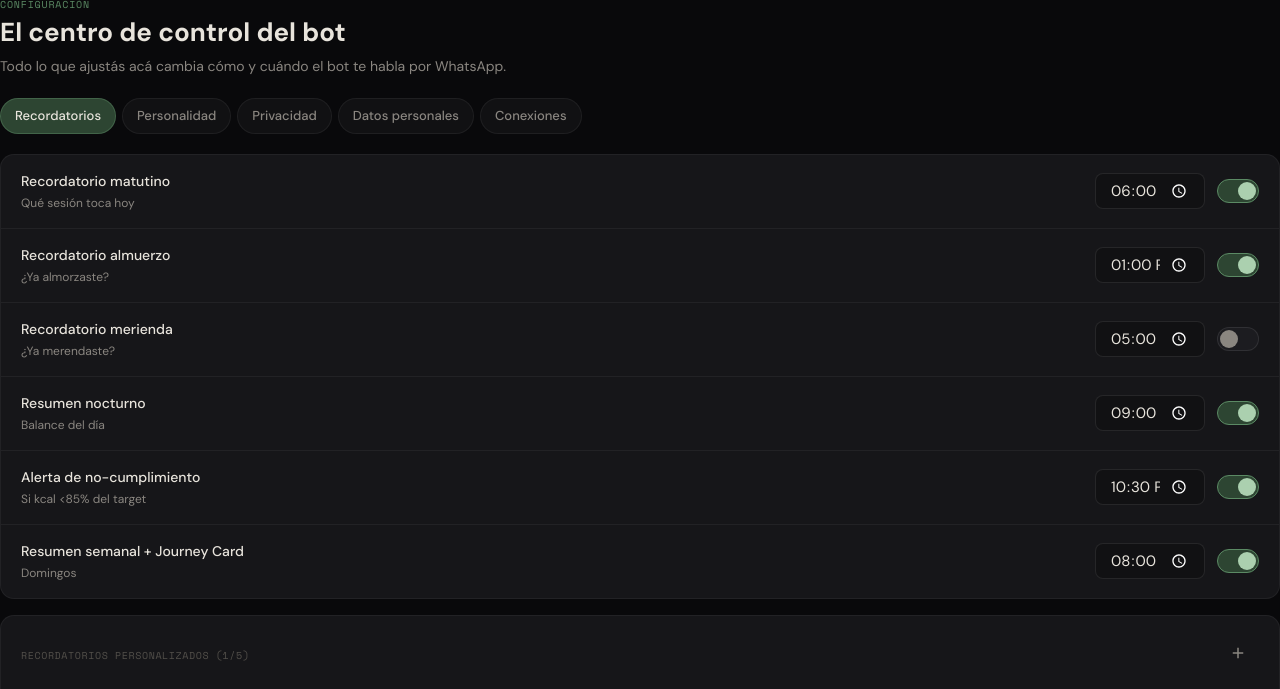
Test case: Settings › renders privacy options with toggles
Click the tab "Privacidad" at (284, 116), box left=237, top=98, right=332, bottom=134
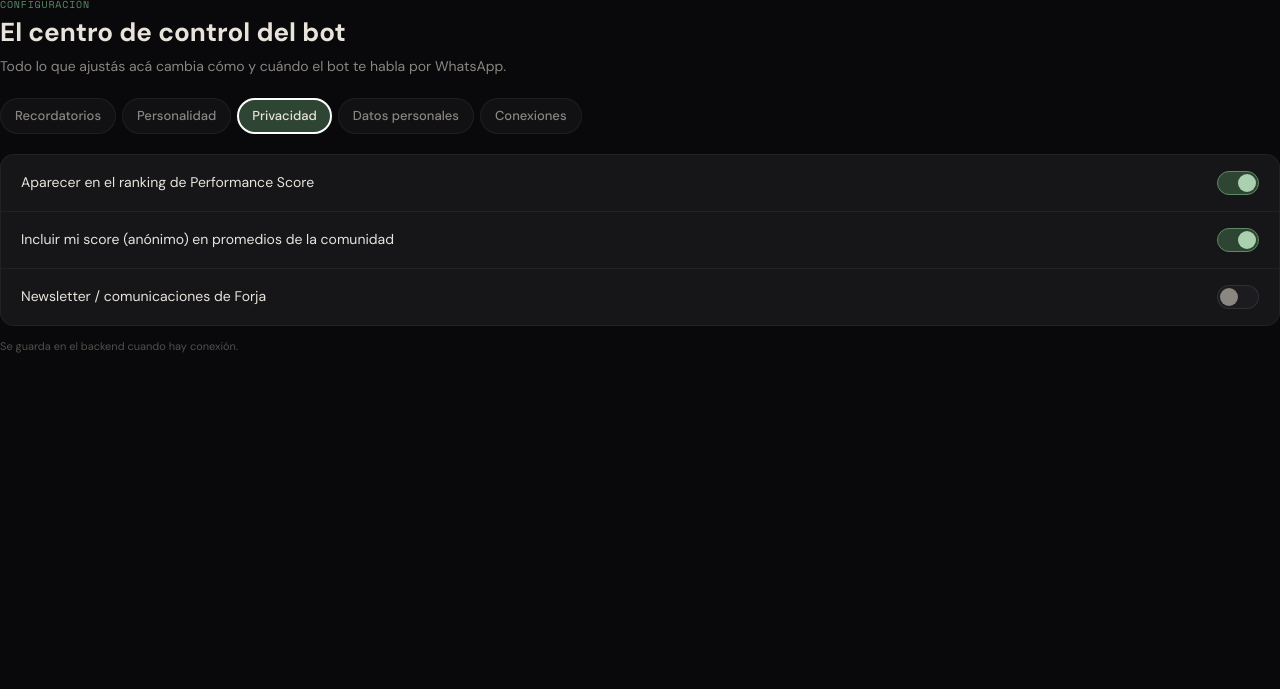
Check: the text "Newsletter / comunicaciones de Forja" is shown, box left=21, top=287, right=266, bottom=305
Check: the button named "Aparecer en el ranking de Performance Score" is shown, box left=1217, top=171, right=1259, bottom=195
